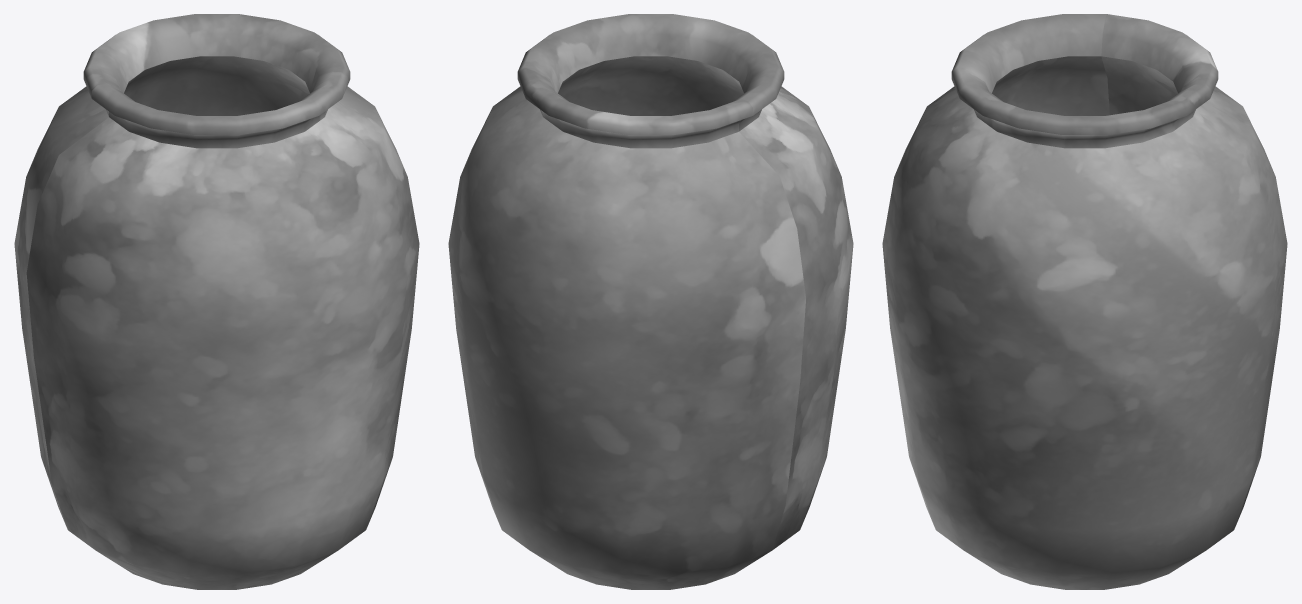
File: SM_TerraPots_01b.fbx
3 views of the same model, side by side, from view 1: azimuth 30°, elevation 25°; view 2: azimuth 150°, elevation 25°; view 3: azimuth 270°, elevation 25° (orthographic).
Parts seen in each view (by area): view 1: SM_TerraPots_01b_LOD0; view 2: SM_TerraPots_01b_LOD0; view 3: SM_TerraPots_01b_LOD0.
Part boxes in pixels (bbox=[...]): SM_TerraPots_01b_LOD0: bbox=[14, 14, 419, 589]; SM_TerraPots_01b_LOD0: bbox=[448, 14, 853, 589]; SM_TerraPots_01b_LOD0: bbox=[882, 14, 1287, 589].
Size of the model in its own units: 51.48 by 52.27 by 68.01.
